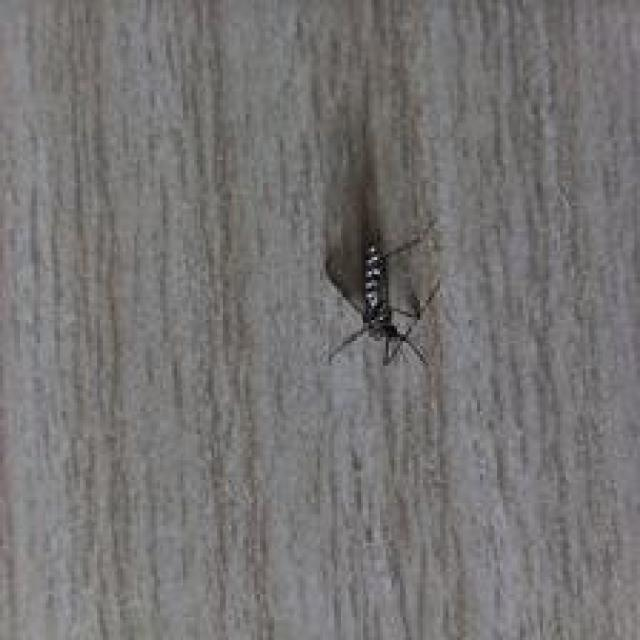Aedes albopictus: (323, 214, 443, 369)
